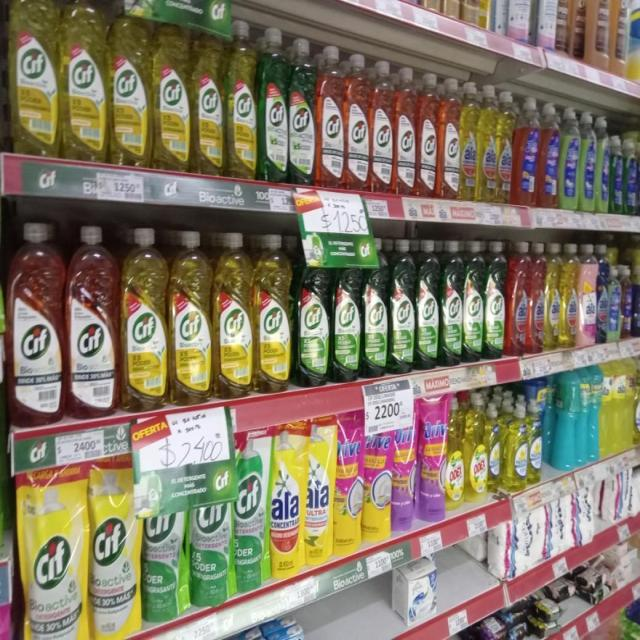ala_conc_amarillo: (478, 85, 497, 203), (460, 80, 477, 202), (560, 243, 578, 349), (497, 88, 513, 204), (545, 242, 560, 352)
ala_conc_azul: (597, 244, 608, 344)
ala_conc_rojo: (507, 240, 528, 357), (529, 242, 544, 356)
ala_crem_amarillo: (613, 360, 629, 453)
ala_sachet_amarillo: (270, 420, 302, 579), (304, 416, 332, 566)
ala_ultra_rosa: (579, 243, 596, 347)
cif_conc_bot_amarilla: (121, 227, 168, 411), (8, 0, 58, 156), (60, 0, 107, 163), (169, 228, 212, 405), (213, 230, 253, 399), (110, 0, 150, 168), (152, 7, 190, 174), (254, 231, 292, 393), (225, 18, 257, 181), (192, 15, 224, 176)
cif_conc_botella_roja: (9, 220, 64, 427), (67, 223, 118, 421), (316, 44, 344, 190), (345, 51, 369, 194), (371, 58, 394, 196), (395, 65, 417, 198), (417, 71, 438, 200), (438, 76, 459, 201)
cif_conc_botella_verde: (296, 234, 330, 386), (258, 26, 287, 184), (332, 236, 362, 382), (289, 35, 315, 187), (363, 236, 388, 378), (390, 238, 415, 374), (416, 239, 440, 370), (441, 240, 462, 366), (484, 240, 506, 360), (463, 239, 484, 363)
cif_conc_sachet_amarillo: (20, 463, 88, 640), (90, 454, 140, 640)
cif_conc_sachet_verde: (190, 428, 232, 606), (233, 425, 268, 592), (143, 502, 187, 622)
drive: (333, 410, 362, 556), (418, 392, 446, 523), (392, 397, 417, 533)
esencial: (600, 363, 612, 458)
magistral_con_amarillo: (504, 397, 528, 492), (487, 400, 503, 494), (528, 394, 543, 486), (633, 362, 640, 445)
odex: (465, 395, 487, 502), (446, 393, 464, 511)
zorro: (514, 95, 538, 207), (539, 101, 559, 209), (560, 105, 579, 211), (580, 111, 596, 212), (596, 115, 610, 213), (624, 133, 639, 216), (610, 133, 624, 215), (609, 266, 621, 342), (622, 266, 632, 340), (633, 266, 640, 338)
